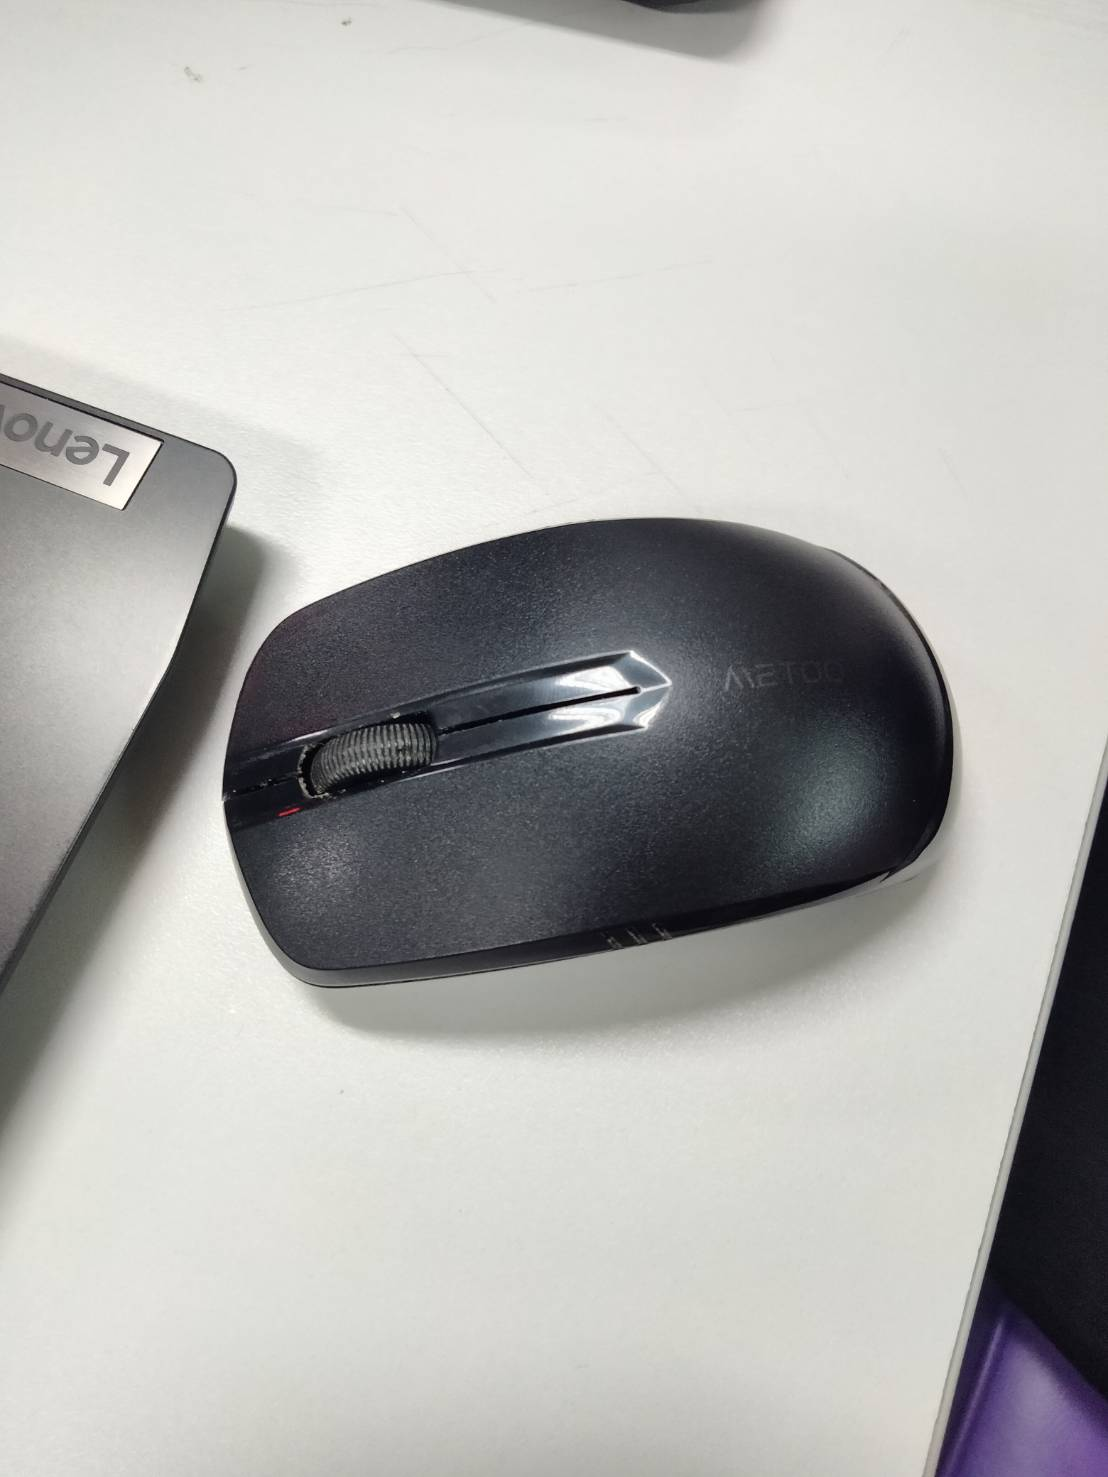mouse: (152, 489, 997, 1002)
